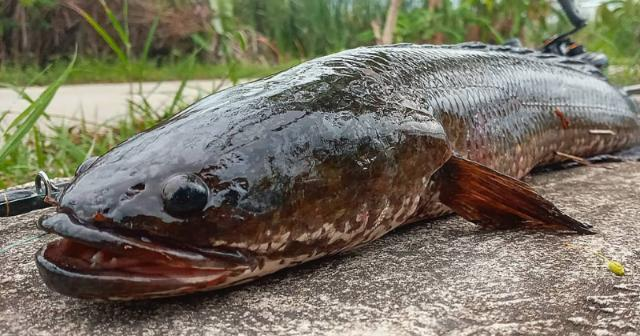Mulut: (0, 176, 272, 318)
Sirip Dada: (413, 134, 603, 256)
